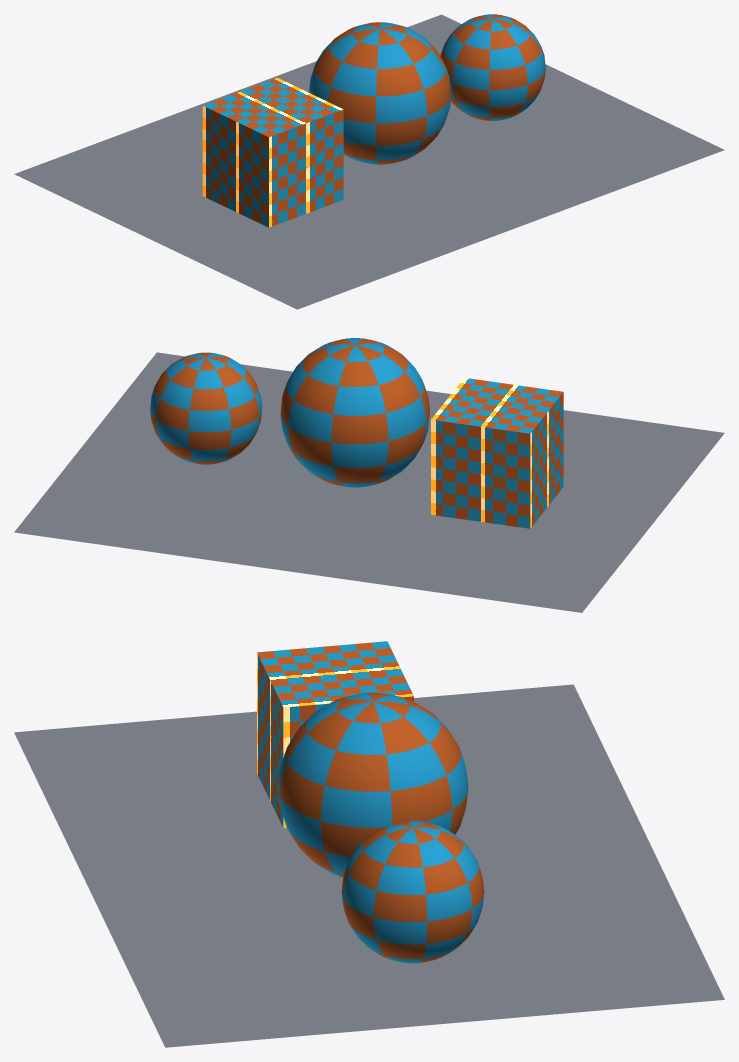
File: MaterialLab.glb
The picture shows the model from 3 angles, top to bottom: view 1: azimuth 30°, elevation 25°; view 2: azimuth 150°, elevation 25°; view 3: azimuth 270°, elevation 25°; orthographic projection. The views are drawn at different scales.
Parts seen in each view (by area): view 1: Ground, Textured Cube, Textured Sphere, Mirrored Sphere; view 2: Ground, Textured Sphere, Textured Cube, Mirrored Sphere; view 3: Ground, Textured Sphere, Mirrored Sphere, Textured Cube.
Boxes of the visible parts, <box> form: Ground: <box>14,14,724,309</box>; Textured Cube: <box>202,78,343,227</box>; Textured Sphere: <box>309,22,451,164</box>; Mirrored Sphere: <box>440,14,545,120</box>; Ground: <box>14,352,724,612</box>; Textured Sphere: <box>280,338,429,487</box>; Textured Cube: <box>431,377,563,528</box>; Mirrored Sphere: <box>150,352,262,464</box>; Ground: <box>14,684,724,1047</box>; Textured Sphere: <box>278,692,468,877</box>; Mirrored Sphere: <box>341,820,484,963</box>; Textured Cube: <box>257,641,413,828</box>.
Bounding box in the file's own units: 9.03 × 2 × 7.47.
Materials: 3 (2 with a texture image).
